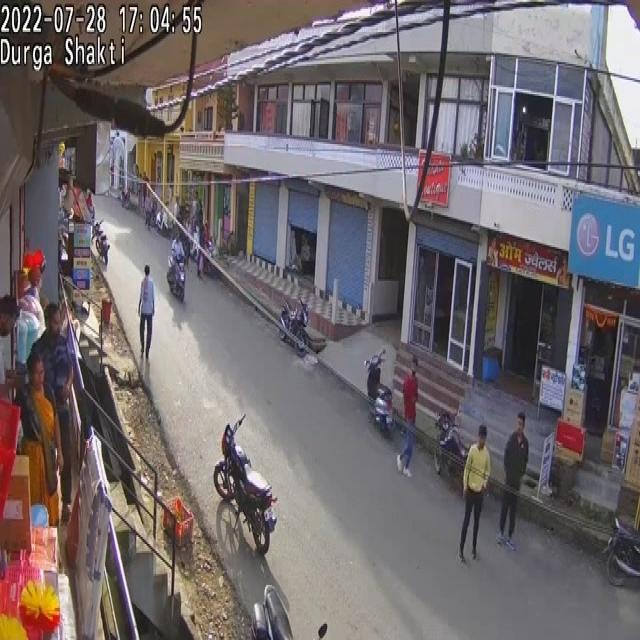non-fight: (38, 304, 76, 512), (458, 420, 488, 560), (500, 411, 529, 550), (15, 258, 46, 373), (397, 354, 418, 476), (138, 263, 156, 356), (464, 443, 491, 495), (200, 222, 212, 279), (188, 191, 204, 227)
